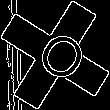O_SW: (23, 22, 87, 88)
